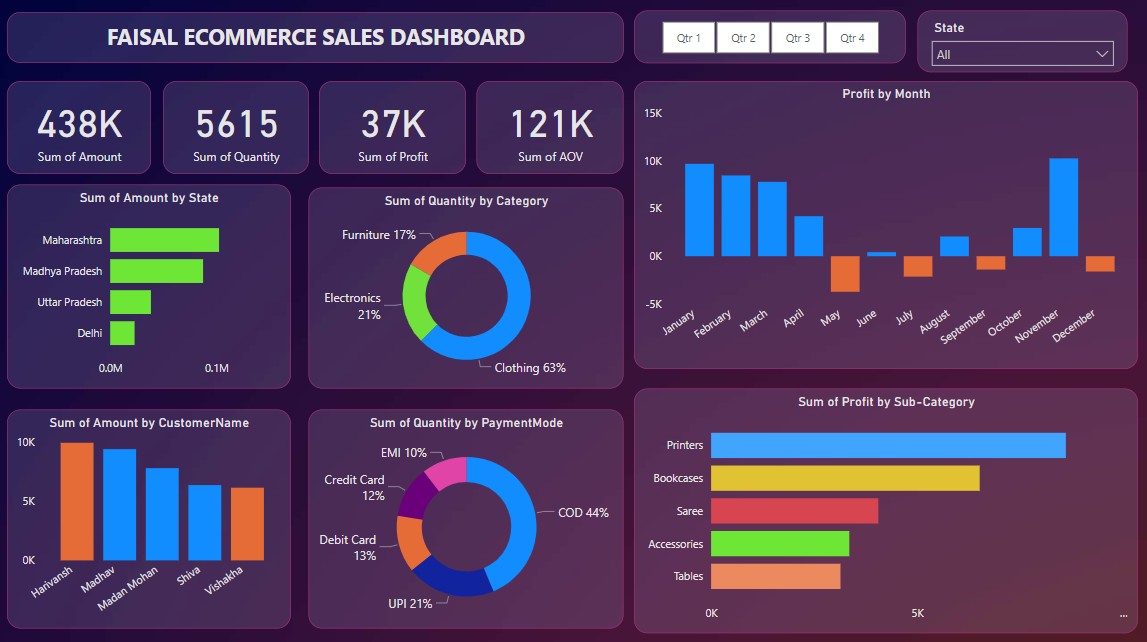

Layout of this report page (visuals, bound fields, positions):
{"tool":"powerbi","page":{"name":"Page 1","canvas":[1280,720],"ordinal":0},"visuals":[{"type":"textbox","box":[10,13.3,685,56.7],"z":0},{"type":"columnChart","title":"Profit by Month","fields":{"Category":["Orders.Order Date.Variation.Date Hierarchy.Month"],"Y":["Details.Profit"]},"box":[706.7,90,560,320],"z":1000},{"type":"barChart","fields":{"Category":["Details.Sub-Category"],"Y":["Details.Profit"]},"box":[706.7,431.7,560,271.7],"z":2000},{"type":"donutChart","fields":{"Category":["Details.Category"],"Y":["Details.Quantity"]},"box":[345,208.3,350,223.3],"z":3000},{"type":"donutChart","fields":{"Y":["Details.Quantity"],"Category":["Details.PaymentMode"]},"box":[345,455,350,243.3],"z":4000},{"type":"card","fields":{"Values":["Details.Amount"]},"box":[10,90,160,103.3],"z":5000},{"type":"card","fields":{"Values":["Details.Quantity"]},"box":[183.3,90,161.7,103.3],"z":6000},{"type":"card","fields":{"Values":["Details.Profit"]},"box":[356.7,90,163.3,103.3],"z":7000},{"type":"card","fields":{"Values":["Details.AOV"]},"box":[531.7,90,163.3,103.3],"z":8000},{"type":"barChart","fields":{"Category":["Orders.State"],"Y":["Details.Amount"]},"box":[10,205,315,226.7],"z":9000},{"type":"columnChart","fields":{"Category":["Orders.CustomerName"],"Y":["Details.Amount"]},"box":[10,455,315,243],"z":10000},{"type":"slicer","fields":{"Values":["Orders.Order Date.Variation.Date Hierarchy.Quarter"]},"box":[706.7,11.7,301.7,58.3],"z":11000},{"type":"slicer","fields":{"Values":["Orders.State"]},"box":[1021.7,11.7,233.3,68.3],"z":12000}]}

Visuals, with their boxes in screenshot pixels (x1, y1, x2, y2), scaled from the page's 1280x720 canvas onto the 1147x642 screenshot:
textbox: 9 12 623 62
"Profit by Month" columnChart: 633 80 1135 366
barChart - Details.Sub-Category x Details.Profit: 633 385 1135 627
donutChart - Details.Category x Details.Quantity: 309 186 623 385
donutChart - Details.Quantity x Details.PaymentMode: 309 406 623 623
card - Details.Amount: 9 80 152 172
card - Details.Quantity: 164 80 309 172
card - Details.Profit: 320 80 466 172
card - Details.AOV: 476 80 623 172
barChart - Orders.State x Details.Amount: 9 183 291 385
columnChart - Orders.CustomerName x Details.Amount: 9 406 291 622
slicer - Orders.Order Date.Variation.Date Hierarchy.Quarter: 633 10 904 62
slicer - Orders.State: 916 10 1125 71
